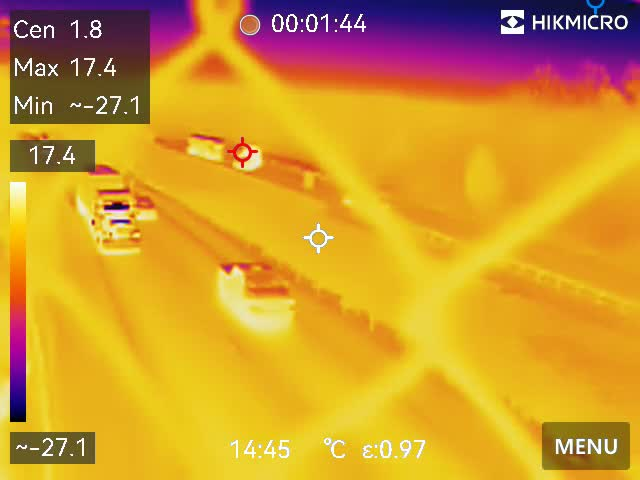heavyTruck: (71, 156, 144, 262), (184, 132, 227, 162)
lightTruck: (216, 257, 300, 327)
vehicle: (134, 192, 156, 220)
